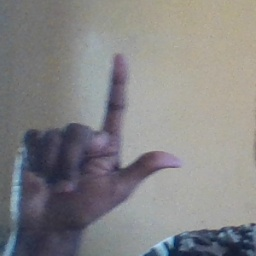L: (11, 51, 181, 231)
